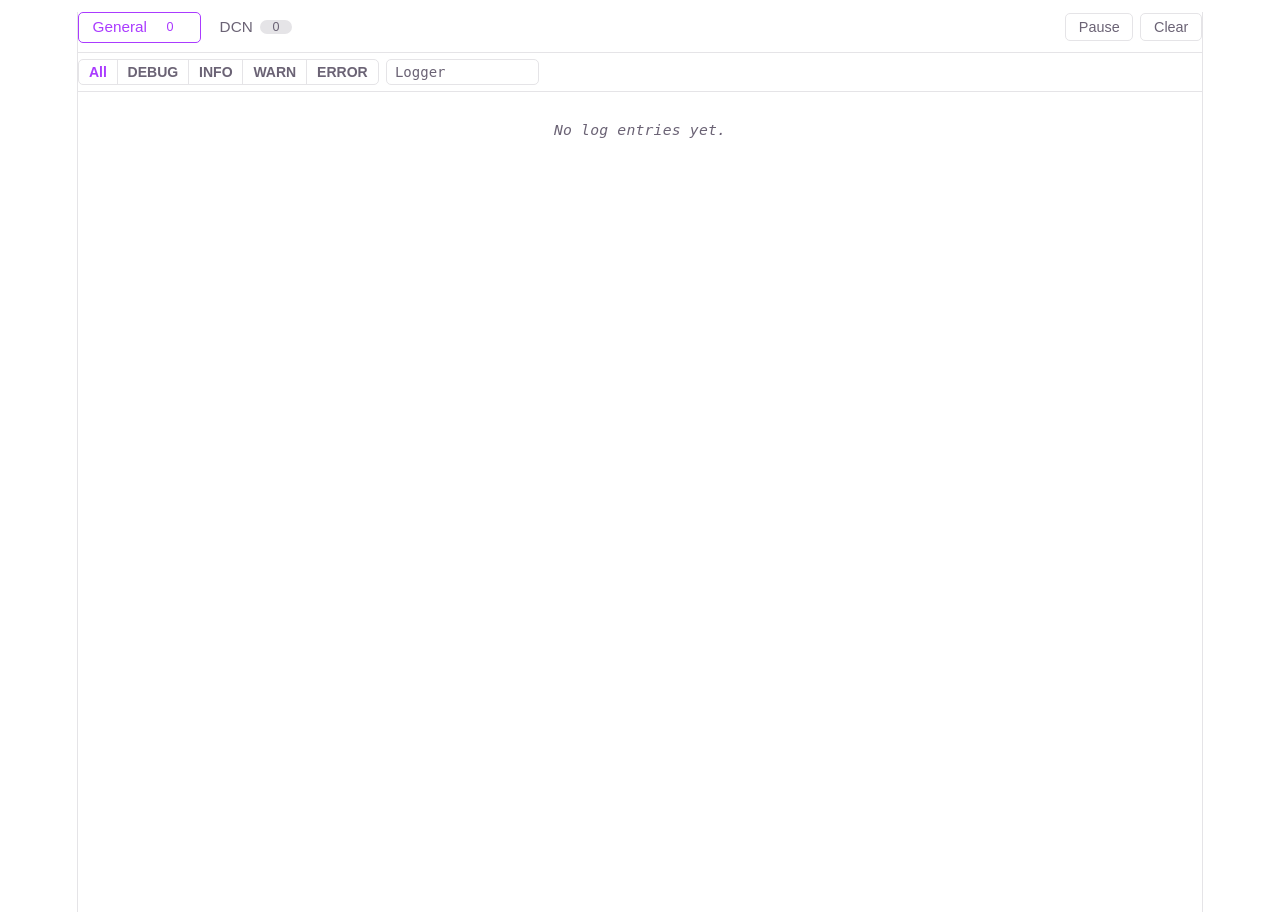
Test: LogView › Pause button toggles label to Resume
Click the button "Pause" at (1099, 27), box [1065,13,1133,42]
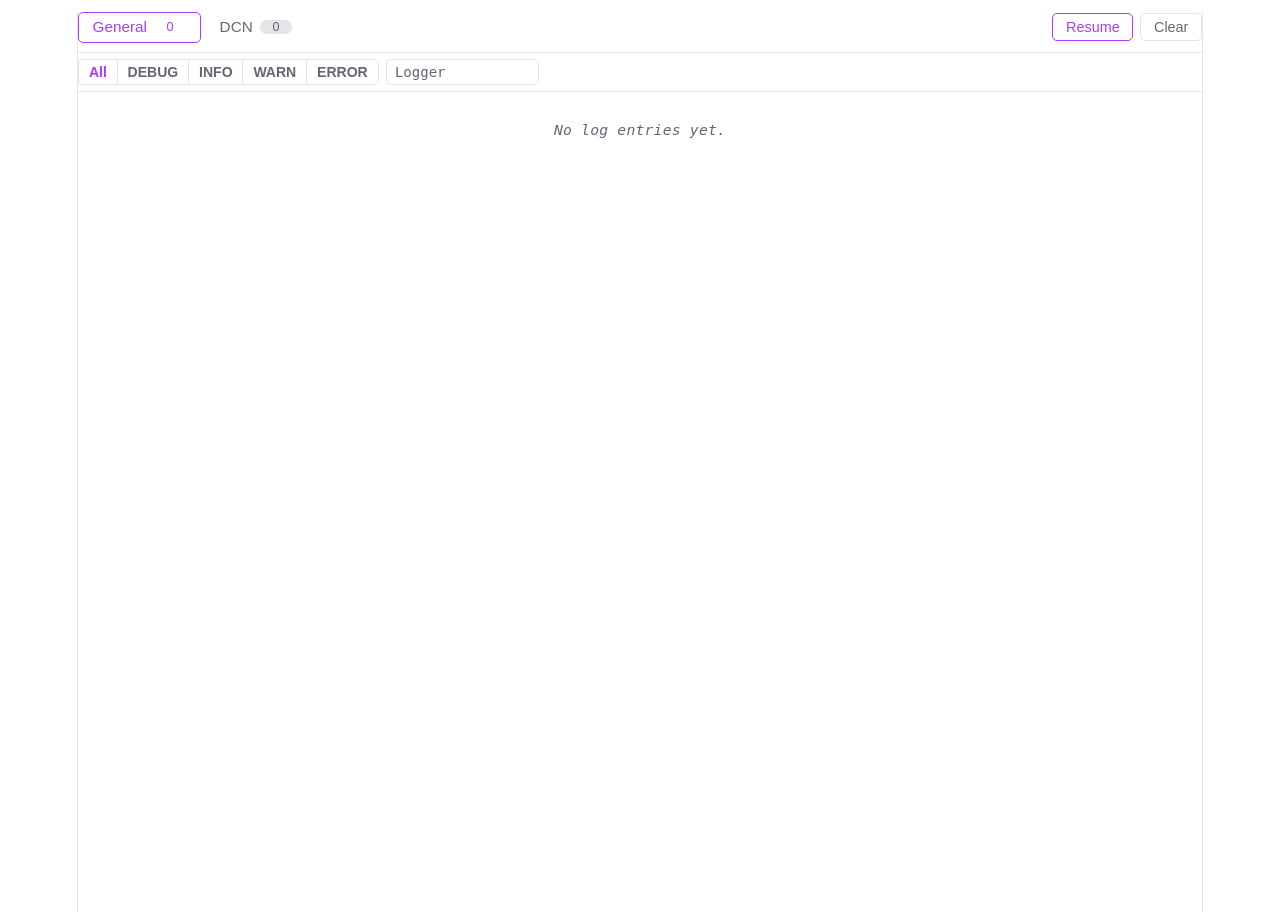
Check: the button "Resume" is shown, box [1052,13,1133,42]
Check: the button "Pause" is gone
